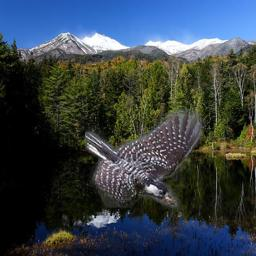Woodpecker: (85, 108, 206, 210)
